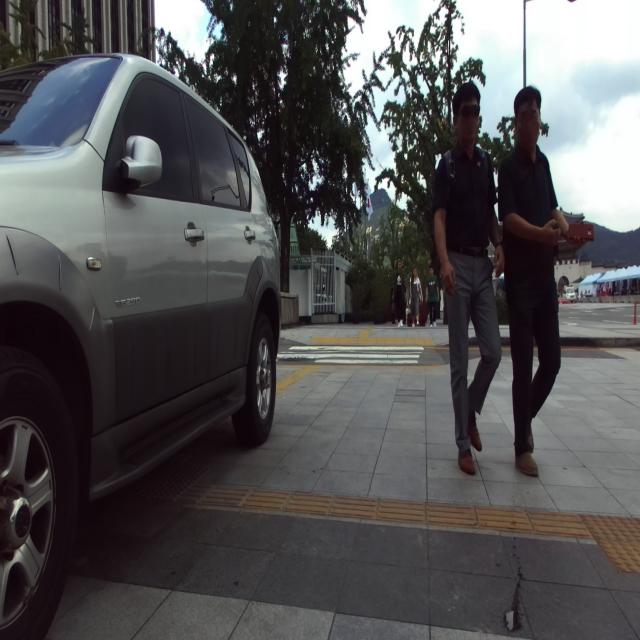횡단보도: (276, 346, 424, 364)
